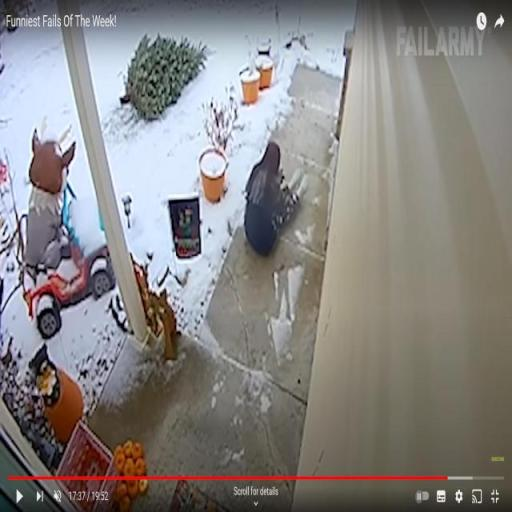Fall: (241, 135, 312, 261)
